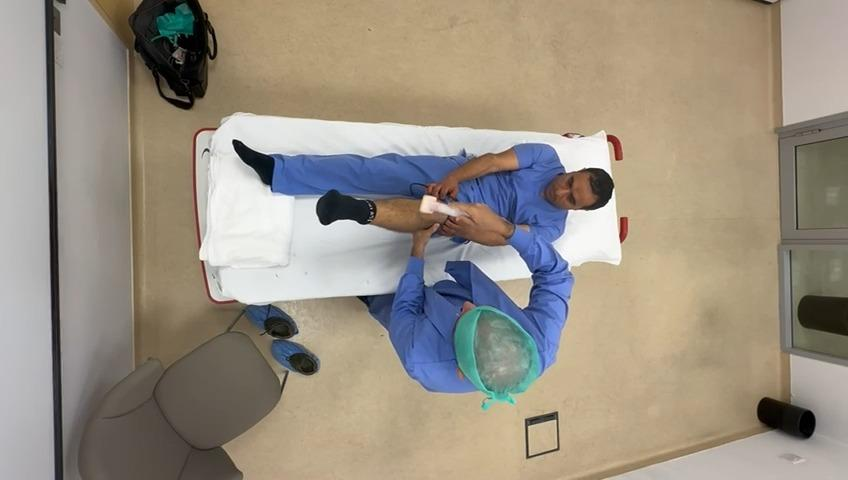bed: (192, 116, 626, 302)
patient: (234, 141, 614, 244)
prepstick: (419, 195, 467, 217)
